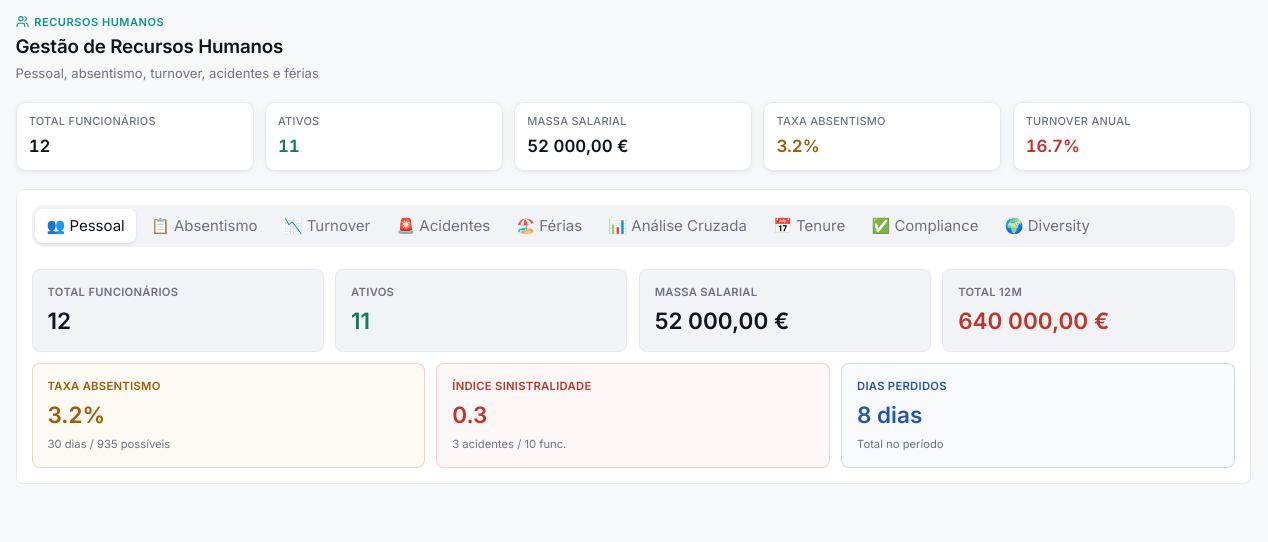
Test: HRPage › switches to the Turnover tab
The width and height of the screenshot is (1268, 542).
Click the button "📉 Turnover" at (327, 226), box x1=273 y1=209 x2=382 y2=243
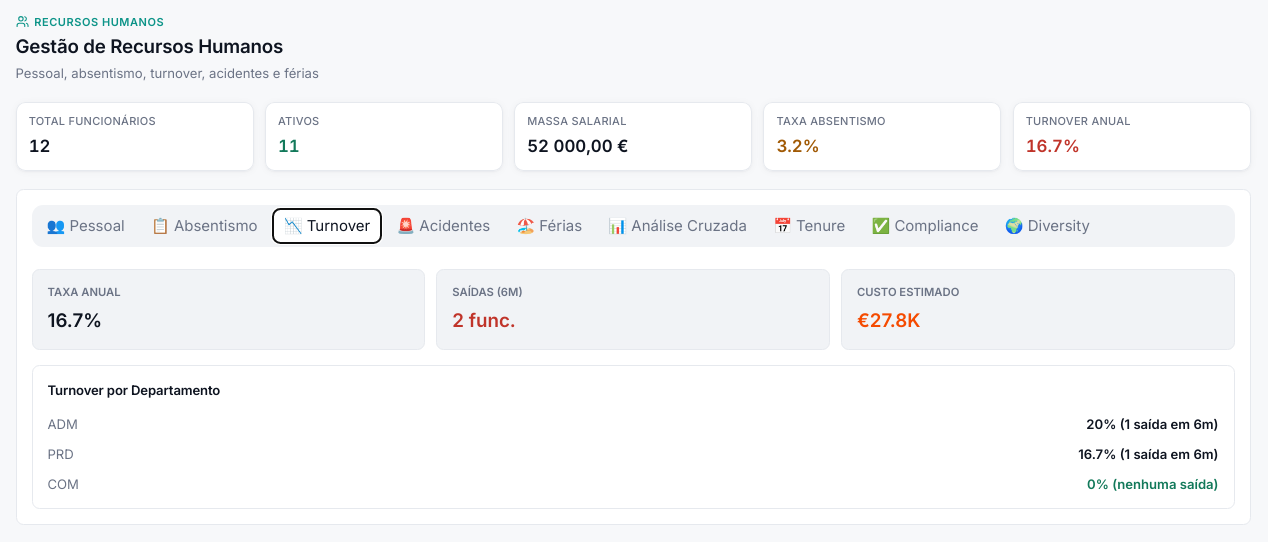
Now the heading "Turnover por Departamento" is shown, box x1=48 y1=382 x2=220 y2=398
